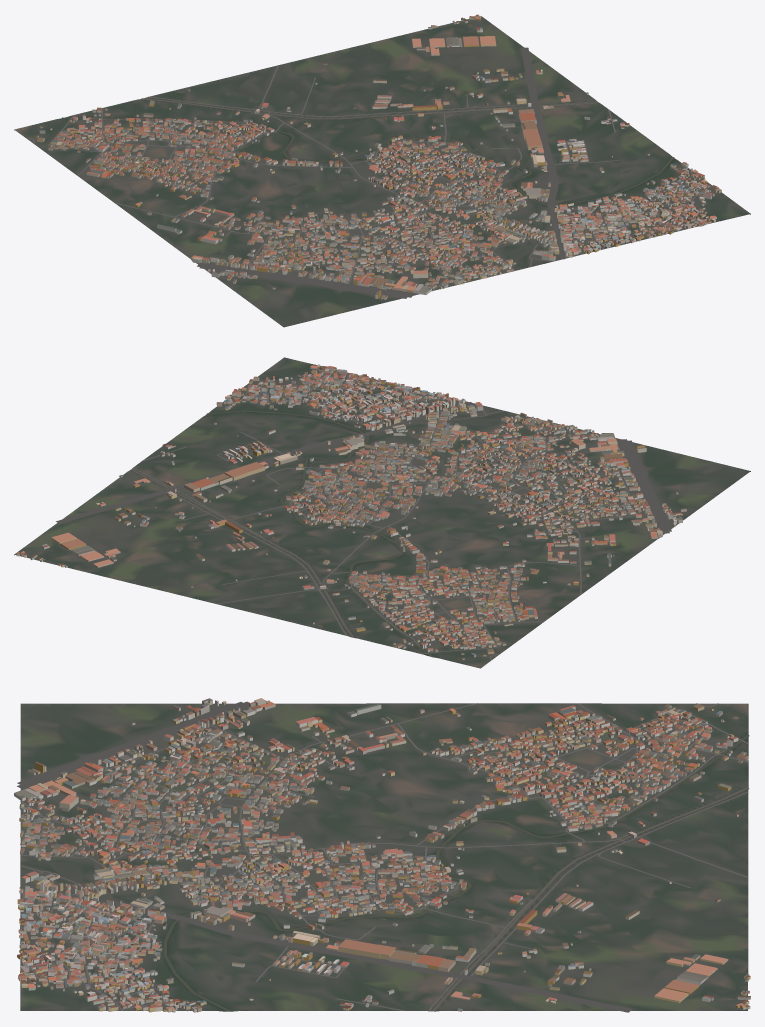
3 renders of one model, top to bottom at view 1: azimuth 30°, elevation 25°; view 2: azimuth 150°, elevation 25°; view 3: azimuth 270°, elevation 25°, orthographic. The views are drawn at different scales.
Visible parts, largest first — view 1: ground, buildings, roads, water; view 2: ground, buildings, roads, water; view 3: ground, buildings, roads, water.
Part boxes in pixels (x1,y1,x2,y2): ground: (14,16,750,327); buildings: (36,14,721,299); roads: (25,47,711,298); water: (61,98,674,205); ground: (14,357,750,668); buildings: (16,364,686,660); roads: (56,364,671,660); water: (130,410,433,656); ground: (20,703,748,1011); buildings: (14,698,750,1012); roads: (17,701,748,1012); water: (163,735,749,1011).
Bounding box in the file's own units: 1418 × 28.38 × 1419.
